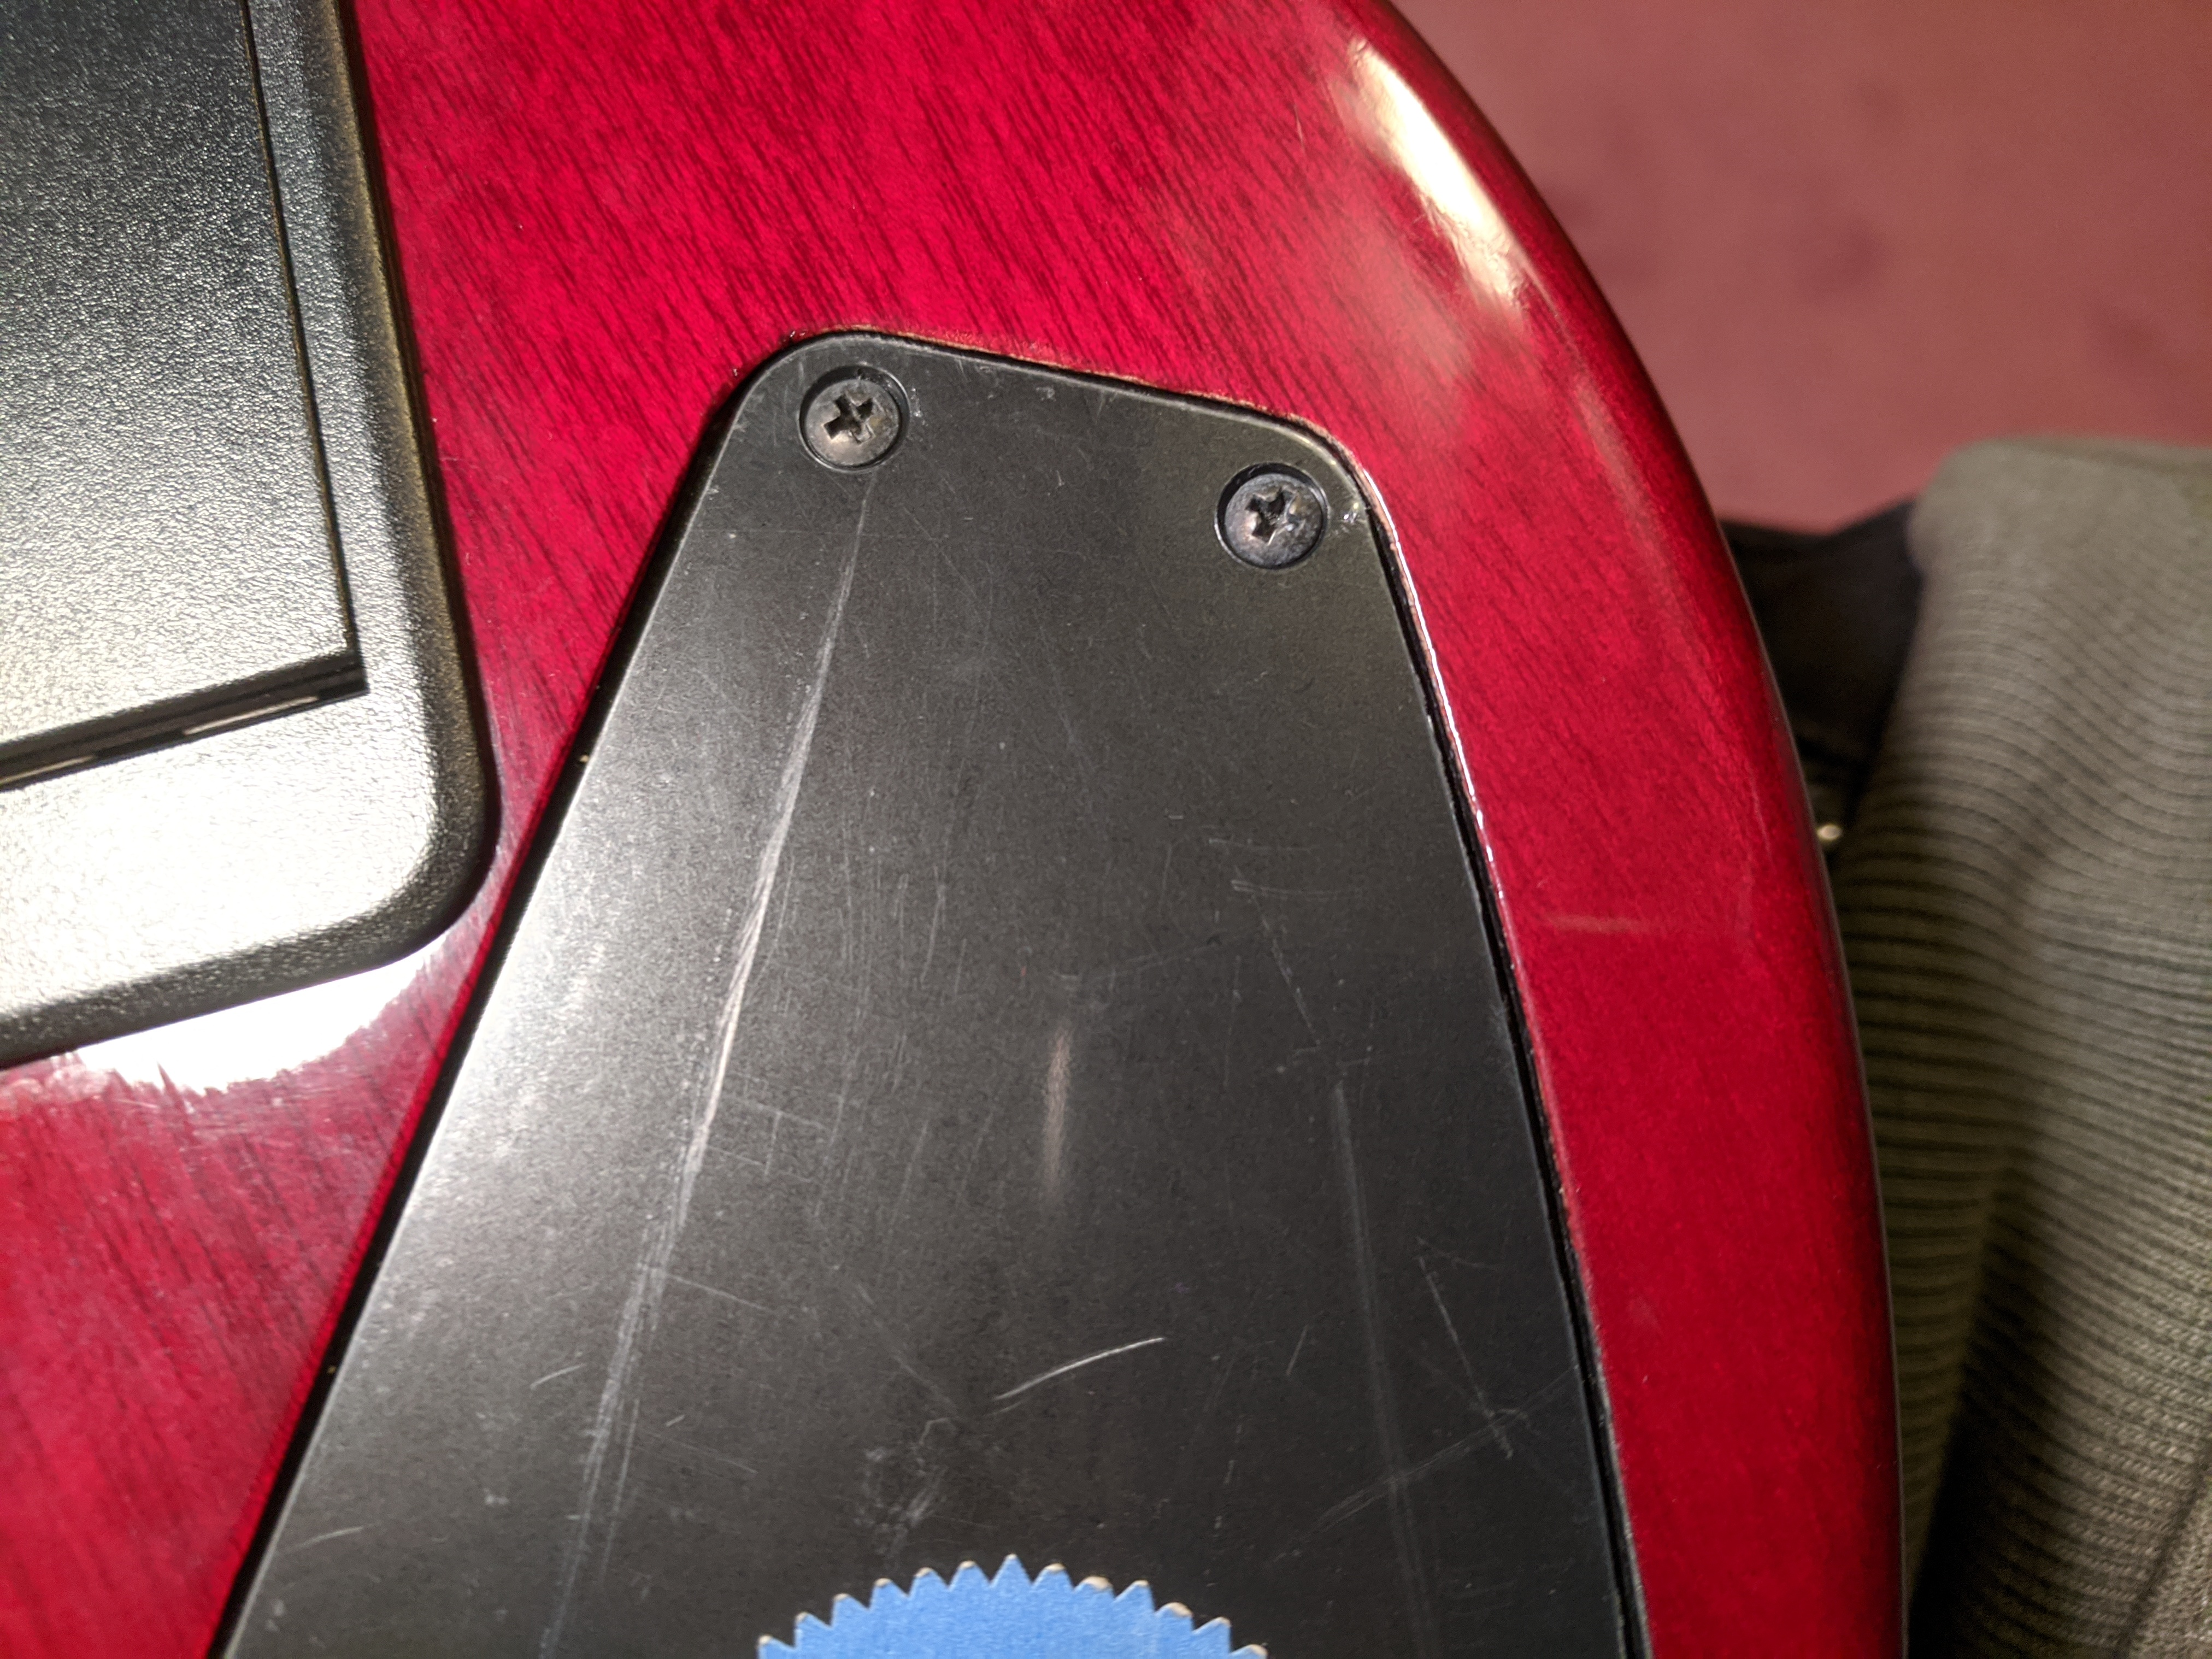cross_recessed_screw: (786, 357, 911, 469), (1205, 457, 1327, 563)
